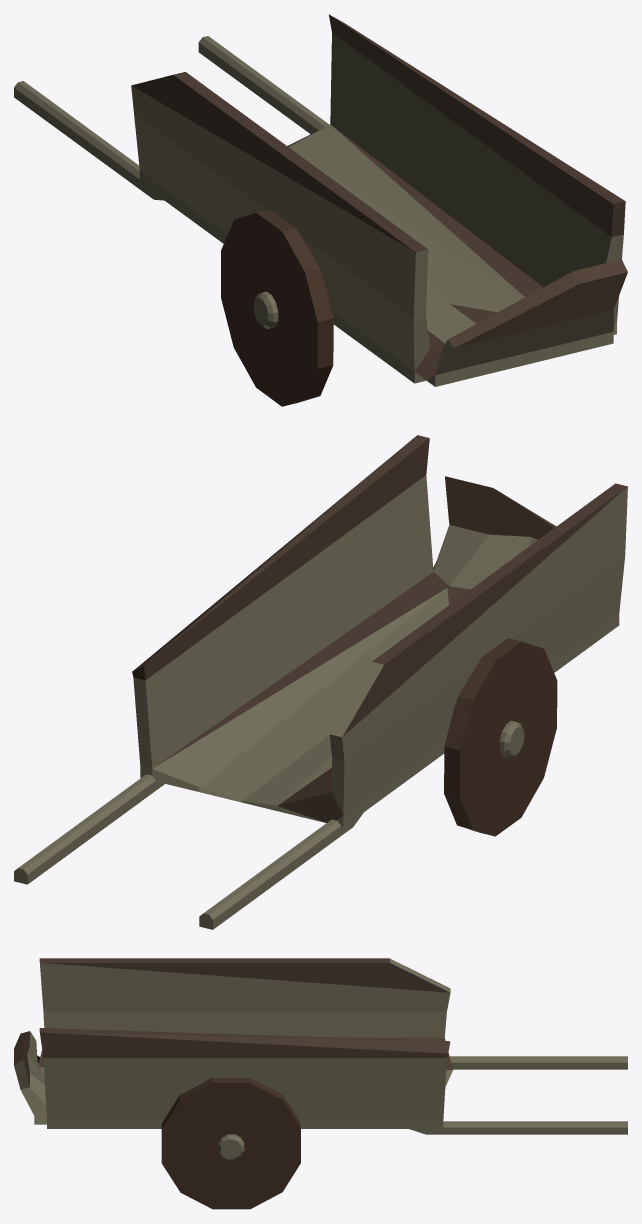
File: Cart_2.fbx
3 renders of one model, top to bottom at view 1: azimuth 30°, elevation 25°; view 2: azimuth 150°, elevation 25°; view 3: azimuth 270°, elevation 25°, orthographic. The views are drawn at different scales.
Visible parts, largest first — view 1: Cube.065, Cylinder.020; view 2: Cube.065, Cylinder.020; view 3: Cube.065, Cylinder.020.
Part boxes in pixels (box(x1,y1,x2,y2)): Cube.065: box(14, 14, 627, 386); Cylinder.020: box(221, 209, 333, 406); Cube.065: box(14, 435, 627, 929); Cylinder.020: box(444, 638, 557, 836); Cube.065: box(14, 958, 627, 1134); Cylinder.020: box(161, 1078, 300, 1209).
Bounding box in the file's own units: 368 × 330 × 1067.
